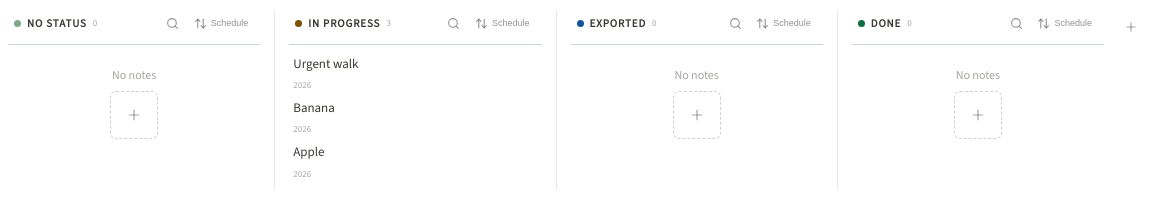
Test case: BoardPane (Wave 4) › column sort cycles schedule (server order) → recent → title, independently per column
This screenshot has width=1152, height=207.
Click the button with test id "board-column-sort-toggle" in the row of "In progress" at [502, 23], box x1=469 y1=10 x2=536 y2=36
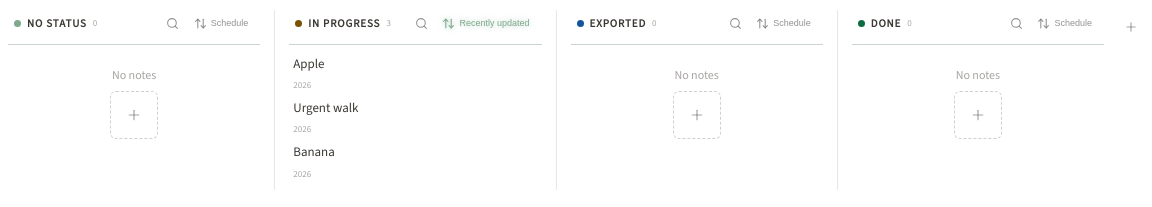
Expected: the button with test id "board-column-sort-toggle" reads "Recently updated"
Click the button with test id "board-column-sort-toggle" showing "Recently updated" at [486, 23], box x1=436 y1=10 x2=536 y2=36
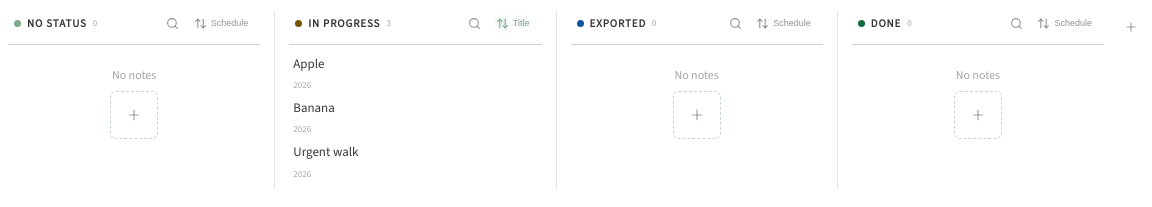
Expected: the button with test id "board-column-sort-toggle" reads "Title"
Click the button with test id "board-column-sort-toggle" showing "Title" at [513, 23], box x1=490 y1=10 x2=536 y2=36
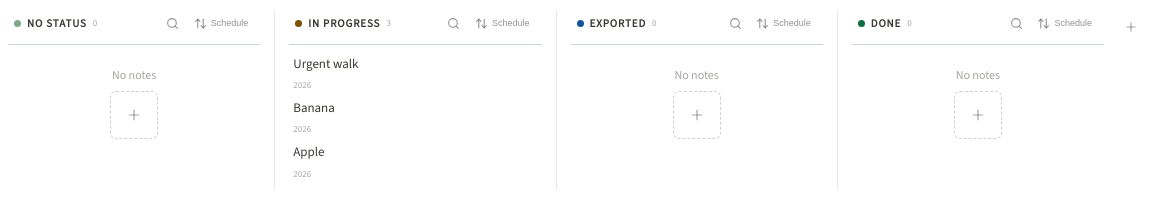
Expected: the button with test id "board-column-sort-toggle" in the row of "In progress" reads "Schedule", x1=469 y1=10 x2=536 y2=36
